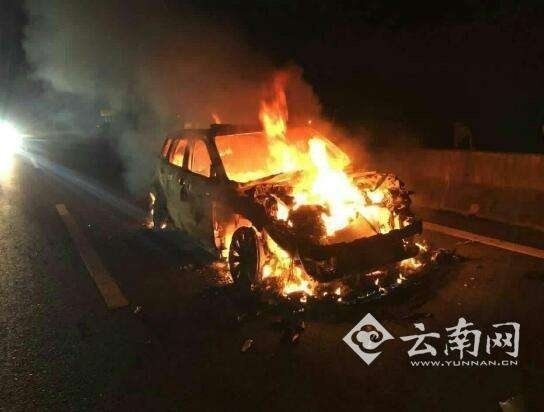fire: (221, 101, 408, 236), (209, 214, 319, 300)
